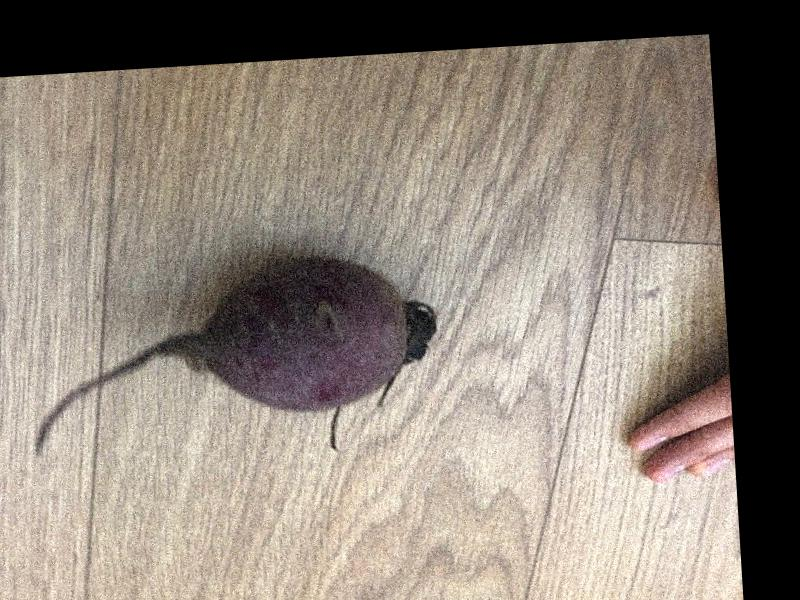Beet: (23, 254, 441, 467)
